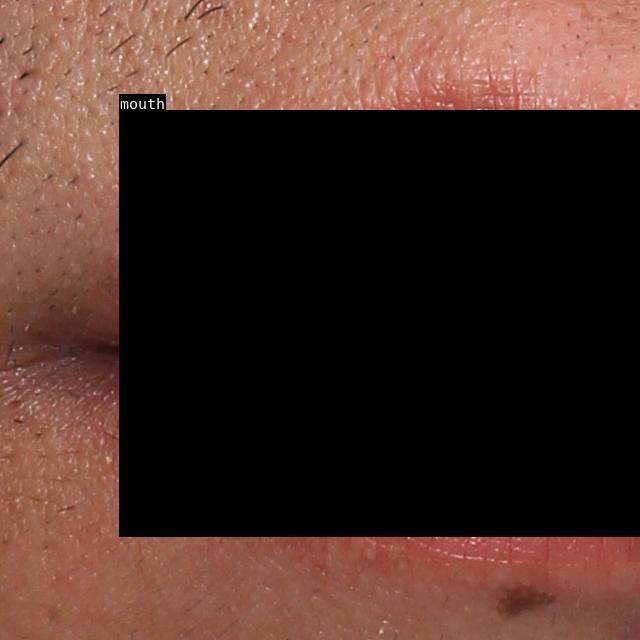nevus: (498, 578, 553, 617)
